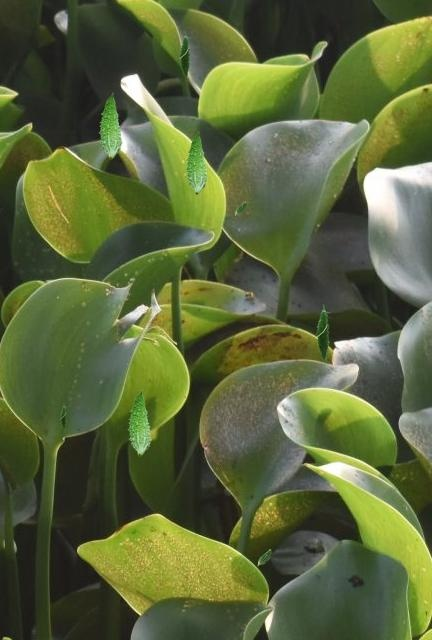ampalaya: (127, 389, 152, 456), (98, 92, 123, 159), (185, 131, 208, 195), (315, 303, 331, 364), (178, 31, 191, 80), (257, 549, 271, 566), (59, 403, 67, 431), (234, 201, 247, 216)
